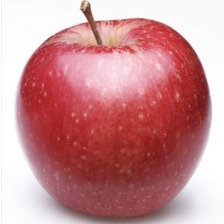apple: (46, 3, 216, 201)
